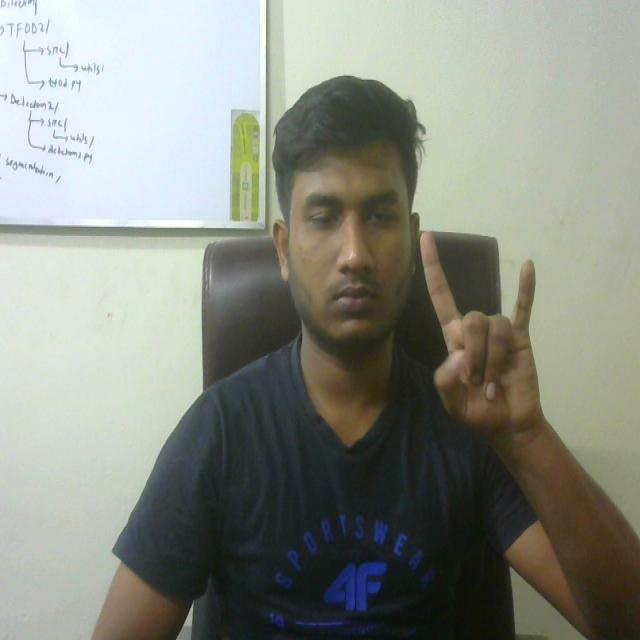I Love You: (404, 220, 569, 459)
